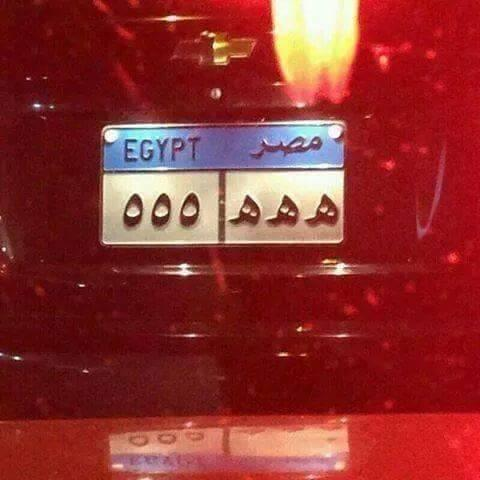5: (116, 187, 146, 232), (149, 184, 172, 230), (179, 185, 202, 229)
Heeh: (306, 187, 341, 232), (265, 190, 303, 229), (229, 191, 263, 228)
License Plate: (94, 121, 348, 252)
